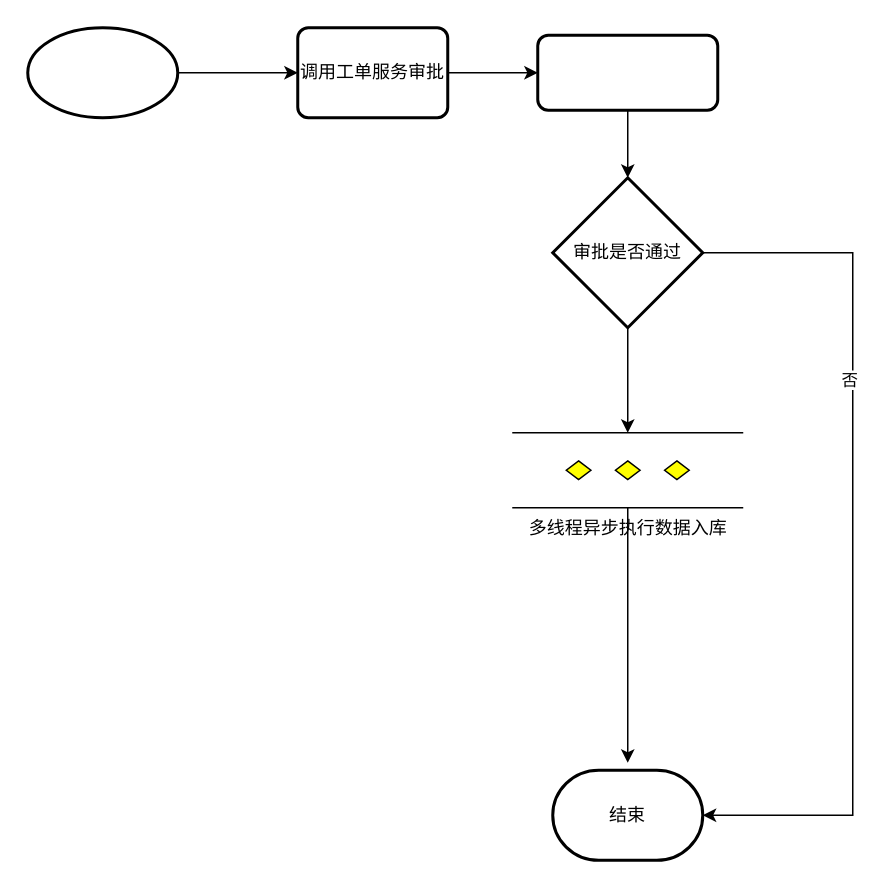
The diagram is 891 pixels wide and 887 high, and some of its shapes have lost their labels. Each missing label, with the centre of its shape:
修改申请单状态为审批通过或审批拒绝: point 627,72
开始: point 102,72
